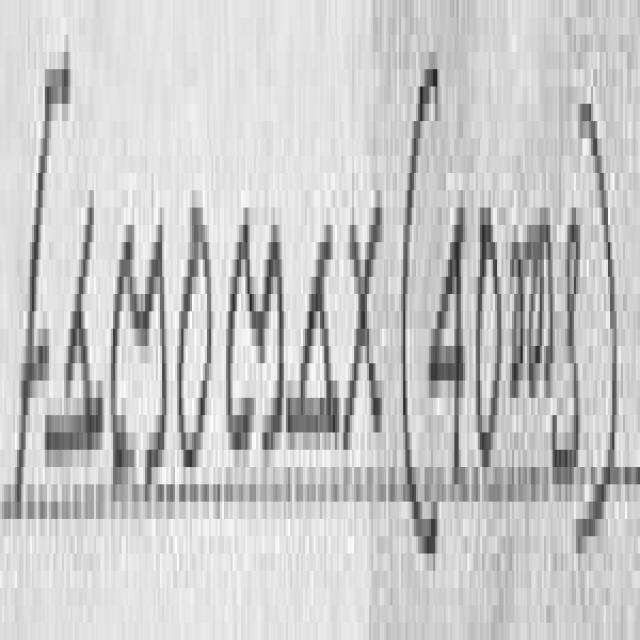0: (477, 208, 503, 458)
4: (431, 208, 464, 476)
A: (45, 190, 102, 441), (288, 206, 339, 451)
F: (15, 52, 67, 510)
M: (111, 225, 166, 484), (226, 208, 284, 450)
O: (179, 208, 211, 458)
X: (346, 179, 383, 451)
g: (555, 208, 579, 484)
m: (509, 195, 555, 435)
